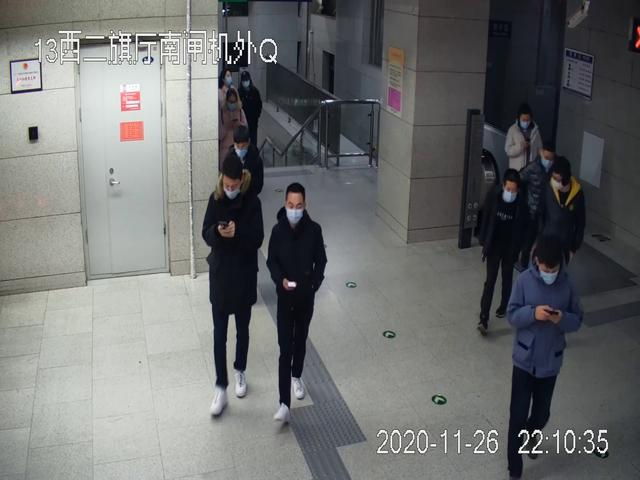person: (506, 233, 583, 480), (201, 157, 264, 418), (267, 183, 326, 420), (476, 169, 533, 338), (543, 156, 585, 294), (506, 108, 546, 243)
